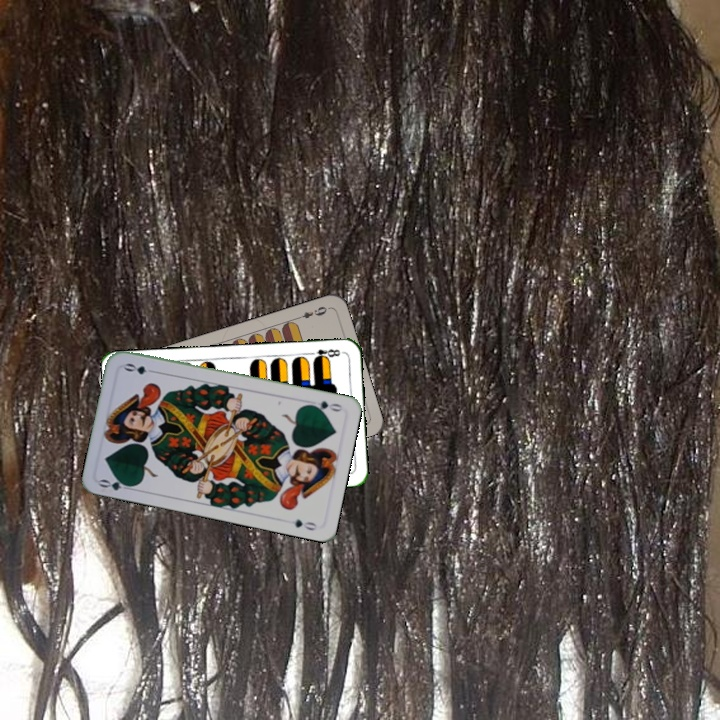E8: (304, 345, 342, 363)
E9: (292, 302, 331, 322)
GO: (95, 474, 137, 493), (304, 396, 345, 414)
